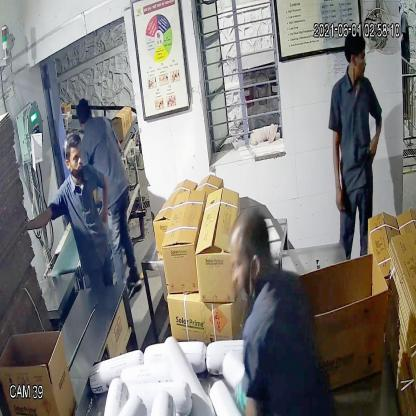no_goggles: (62, 147, 87, 169)
